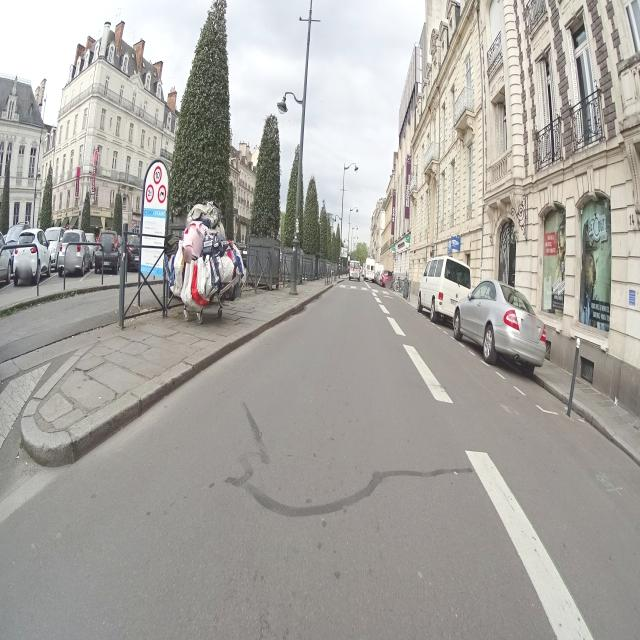car: (454, 278, 546, 376), (179, 216, 235, 304), (418, 252, 471, 326), (13, 227, 51, 285), (57, 228, 91, 276), (94, 228, 125, 274), (225, 237, 246, 296), (3, 223, 25, 275), (44, 226, 66, 272), (126, 222, 142, 271), (0, 229, 11, 290), (85, 231, 98, 269), (379, 268, 392, 290), (365, 258, 376, 283), (350, 260, 360, 282)
